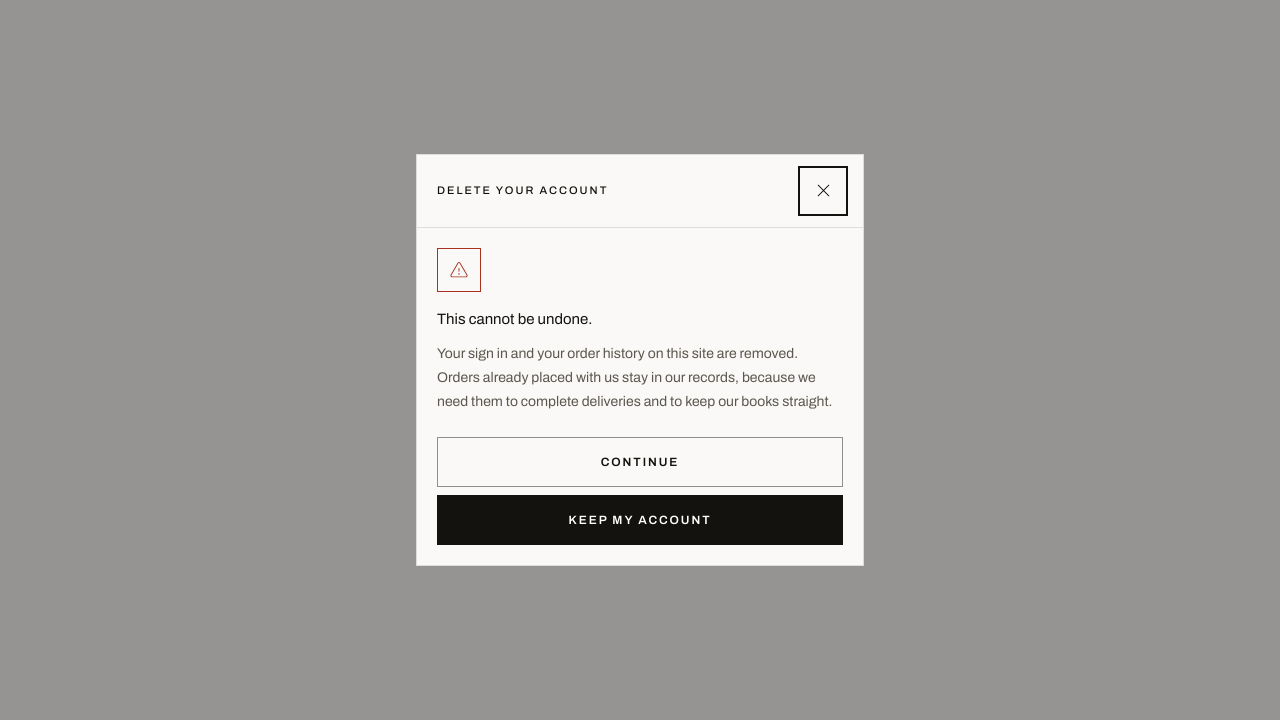
DeleteAccountModal › surfaces a network failure without signing the user out
Step 1. Click the button "Continue" → (640, 462), box [437,437,843,487]
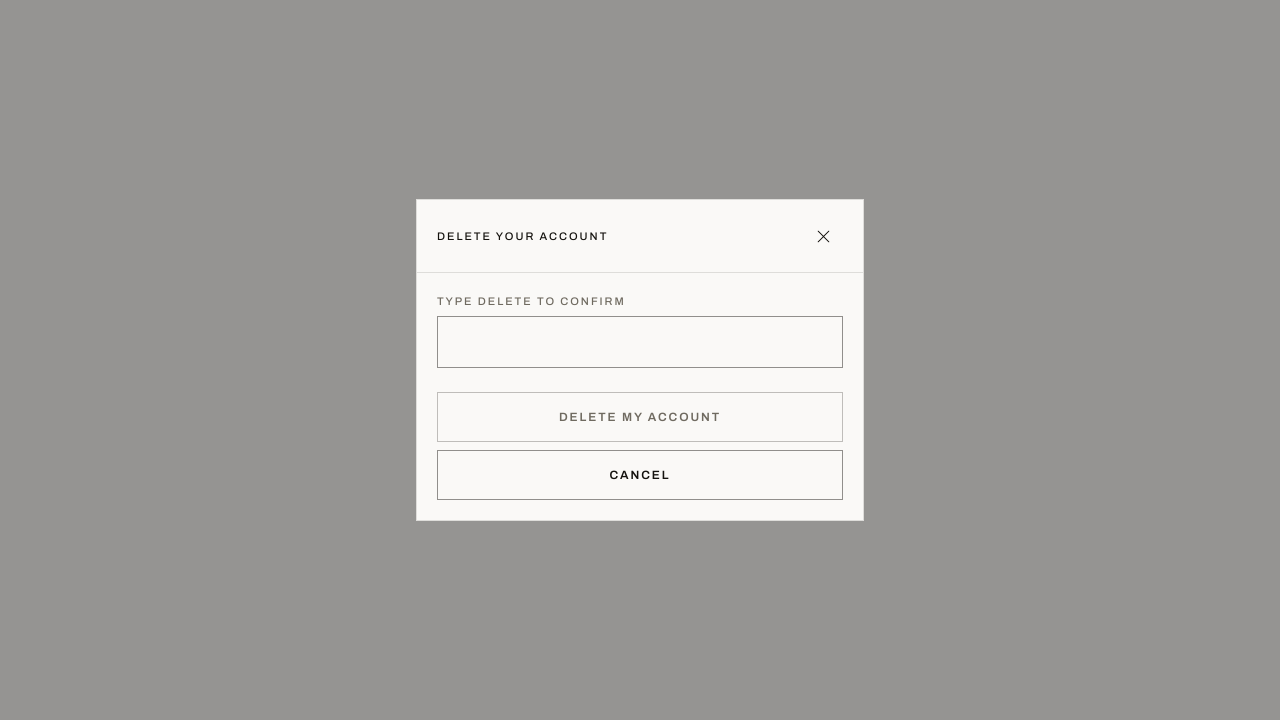
Step 2. Type "DELETE" into the field labelled "Type DELETE to confirm" → (640, 342), box [437,316,843,368]
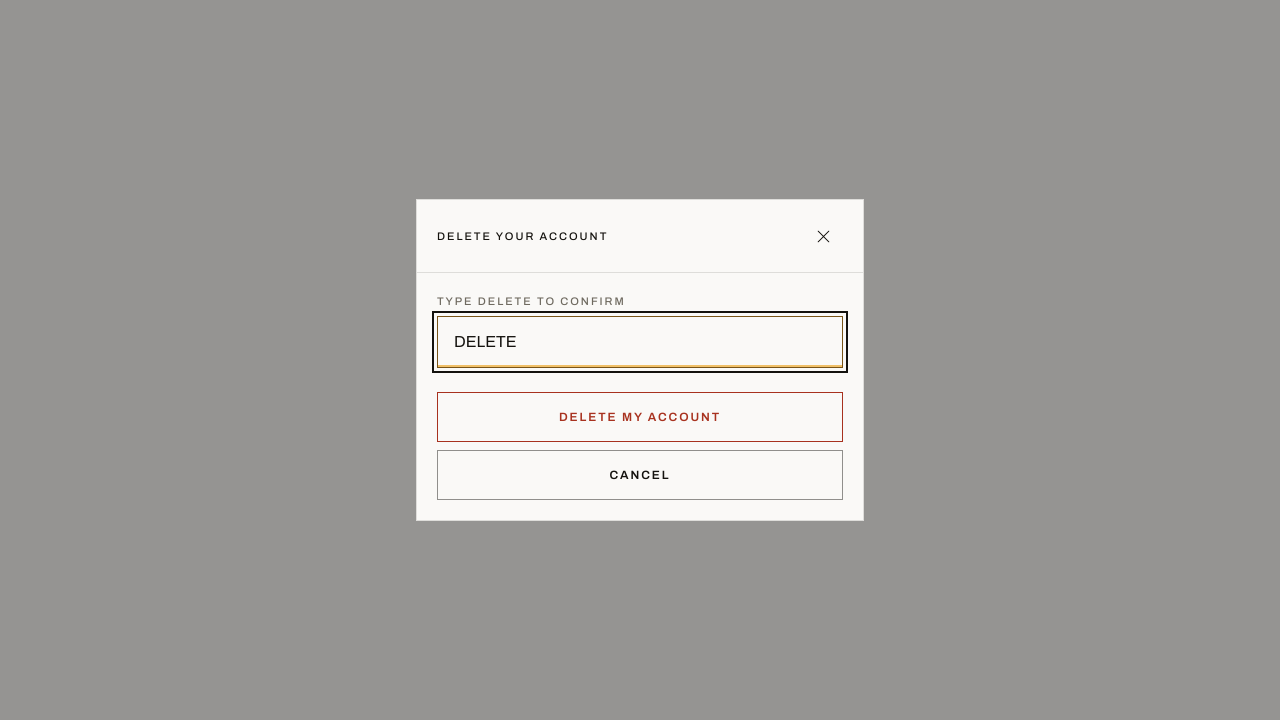
Step 3. Click the button "Delete my account" → (640, 417), box [437,392,843,442]
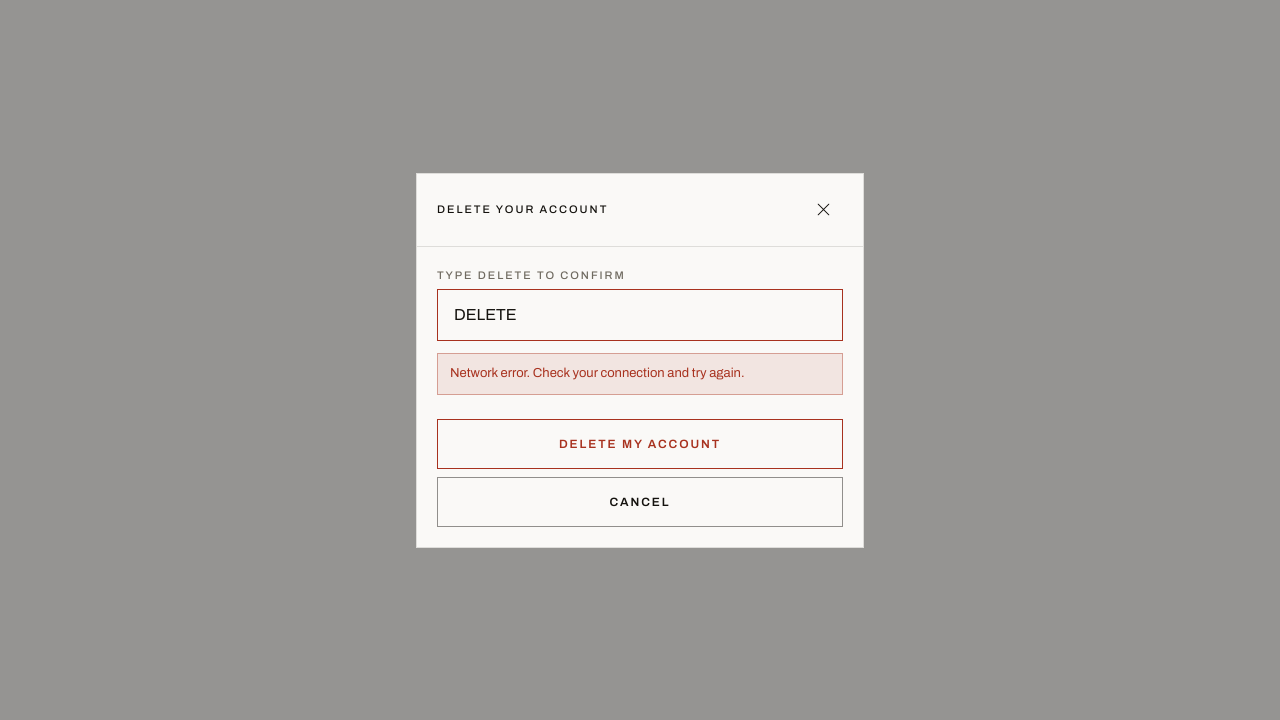
Expected: the message shows "Network error", [450,366,744,380]
